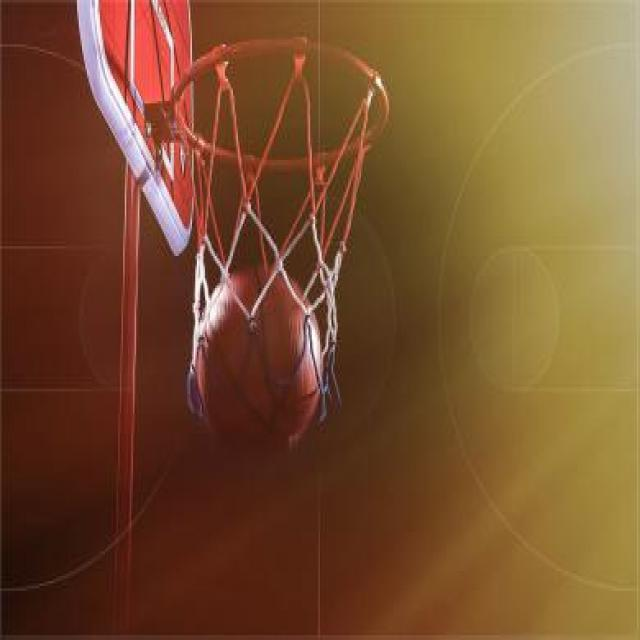rim: (195, 270, 324, 456)
